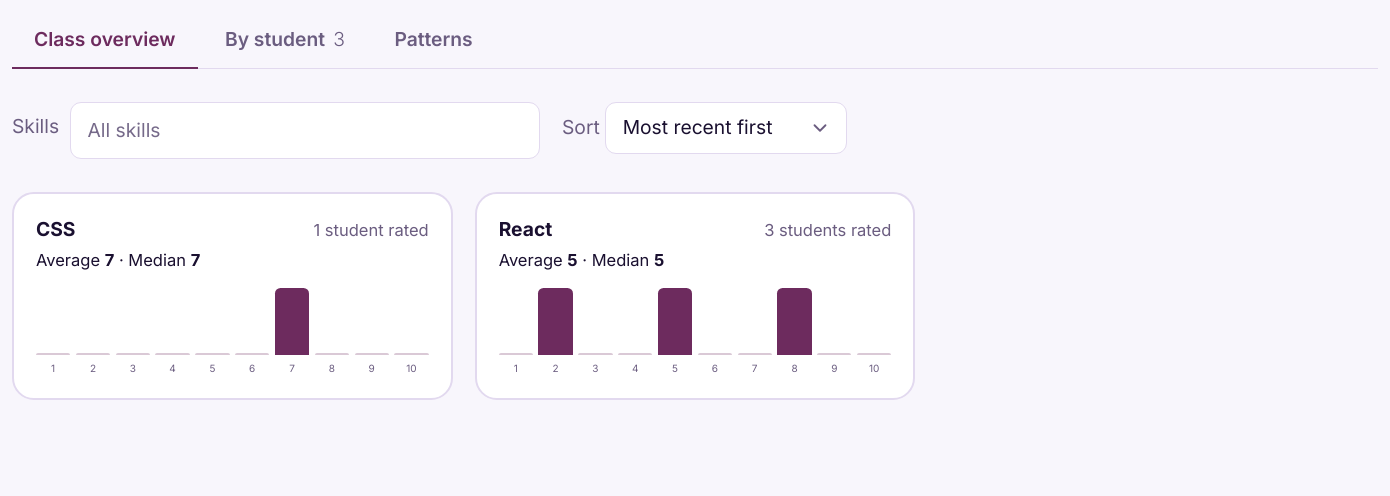
Test: SkillConfidenceInstructorView › lists students with no ratings as having no data instead of omitting them
Click the tab "By student3". click: [285, 40]
box: [203,12,367,69]
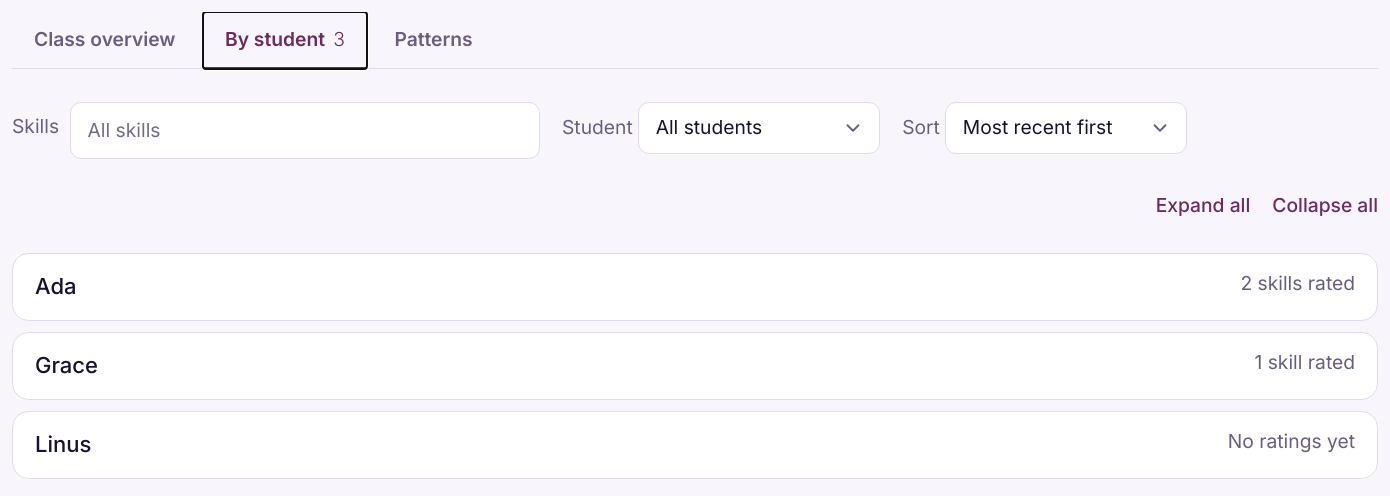
Now the text "No ratings yet" is shown, box [1228,428,1355,461]
